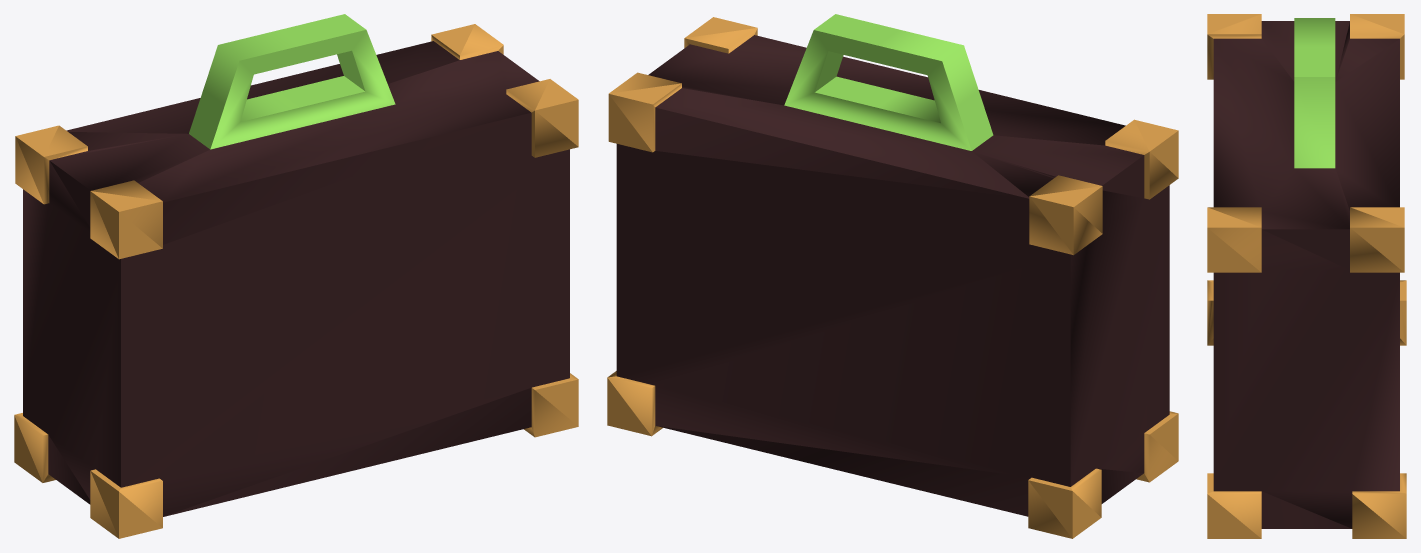
Rendered from suit-case.glb.
3 renders of one model, left to right at view 1: azimuth 30°, elevation 25°; view 2: azimuth 150°, elevation 25°; view 3: azimuth 270°, elevation 25°, orthographic. The views are drawn at different scales.
Parts seen in each view (by area): view 1: suit-case; view 2: suit-case; view 3: suit-case.
Part boxes in pixels (x1=…): suit-case: x1=14, y1=14, x2=578, y2=538; suit-case: x1=607, y1=14, x2=1178, y2=538; suit-case: x1=1207, y1=14, x2=1406, y2=538.
Bounding box in the file's own units: 0.6 × 0.5039 × 0.2368.
